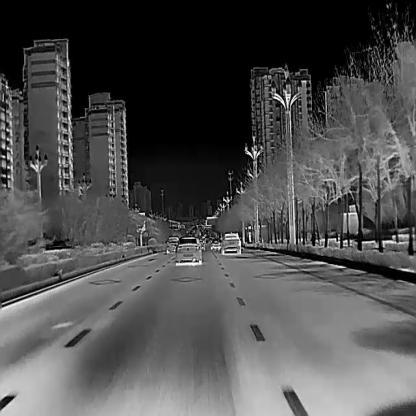car: (174, 235, 202, 264), (221, 230, 242, 254), (165, 235, 181, 253), (209, 238, 220, 251)
